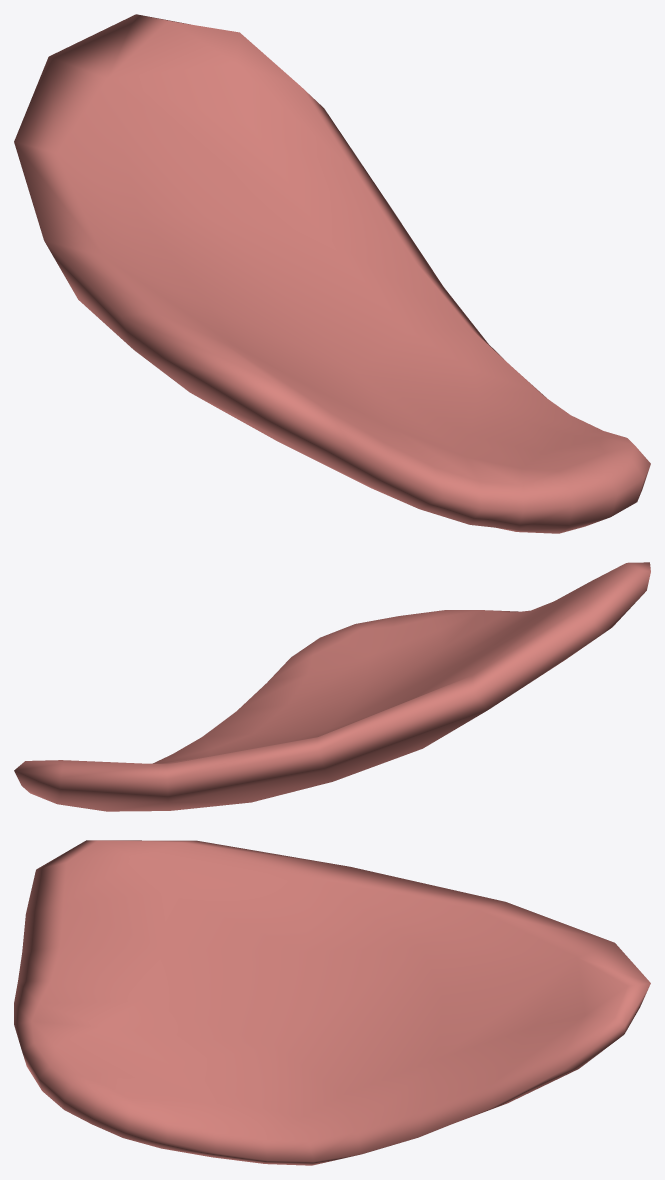
3 views of the same model, one above another, from view 1: azimuth 30°, elevation 25°; view 2: azimuth 150°, elevation 25°; view 3: azimuth 270°, elevation 25° (orthographic). The views are drawn at different scales.
Parts seen in each view (by area): view 1: ZA_e0e6be68eea63be5; view 2: ZA_e0e6be68eea63be5; view 3: ZA_e0e6be68eea63be5.
Boxes of the visible parts, x1,y1,x2,y2 form: ZA_e0e6be68eea63be5: (14,14,650,533); ZA_e0e6be68eea63be5: (14,562,650,811); ZA_e0e6be68eea63be5: (14,840,650,1165).
Size of the model in its own units: 0.00419 by 0.00228 by 0.00718.
